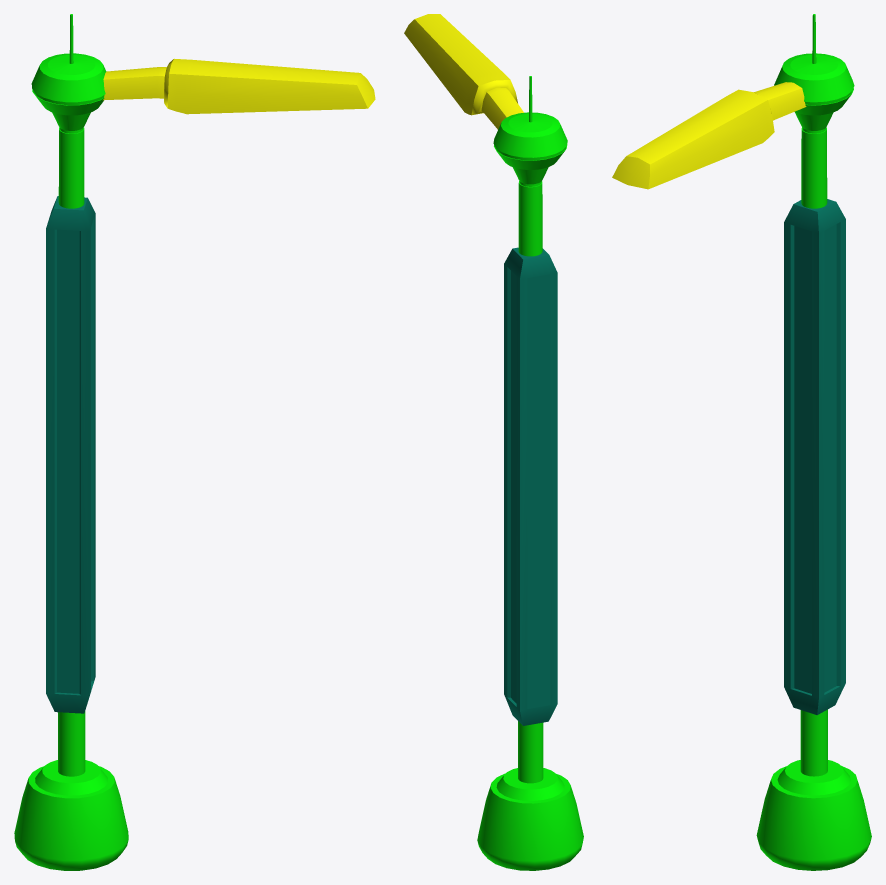
Rendered from SM_lampadaire_solo.fbx.
3 views of the same model, side by side, from view 1: azimuth 30°, elevation 25°; view 2: azimuth 150°, elevation 25°; view 3: azimuth 270°, elevation 25° (orthographic). The views are drawn at different scales.
Visible parts, largest first — view 1: SM_lampadaire_solo; view 2: SM_lampadaire_solo; view 3: SM_lampadaire_solo.
Boxes of the visible parts, x1,y1,x2,y2 form: SM_lampadaire_solo: (14,14,375,870); SM_lampadaire_solo: (404,14,583,870); SM_lampadaire_solo: (612,14,871,870).
Bounding box in the file's own units: 1.32 × 3.9 × 1.1.
